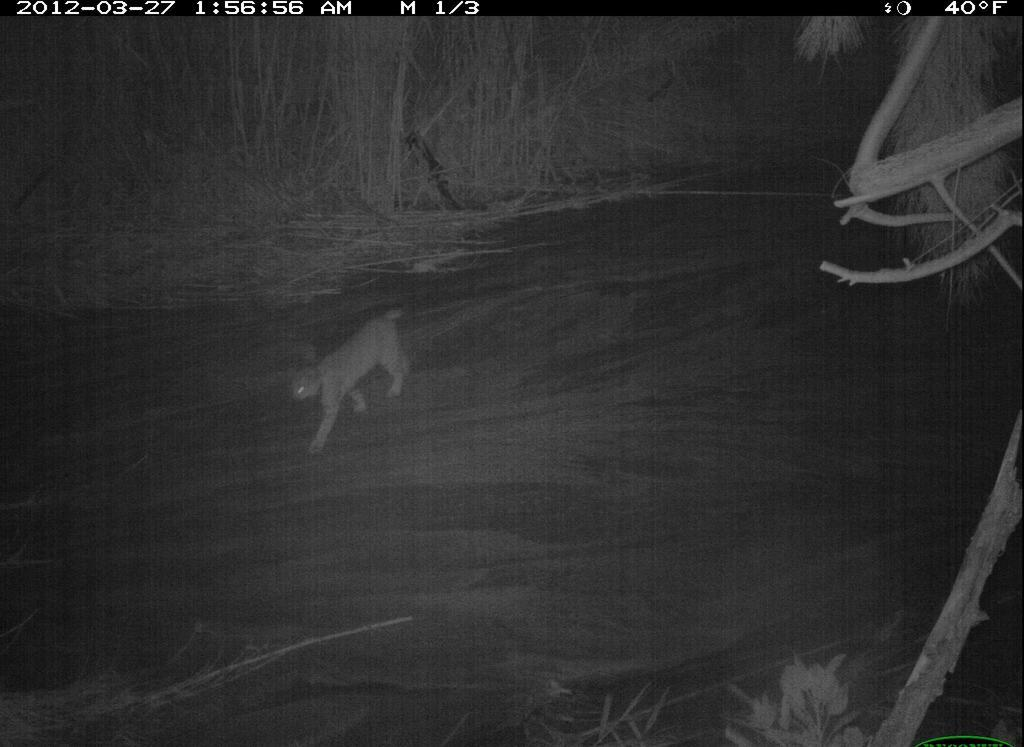bobcat: (285, 306, 414, 456)
